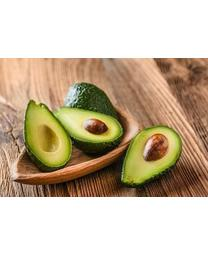avocado: (122, 124, 182, 186), (23, 98, 73, 171), (53, 106, 125, 154), (67, 84, 124, 129)
